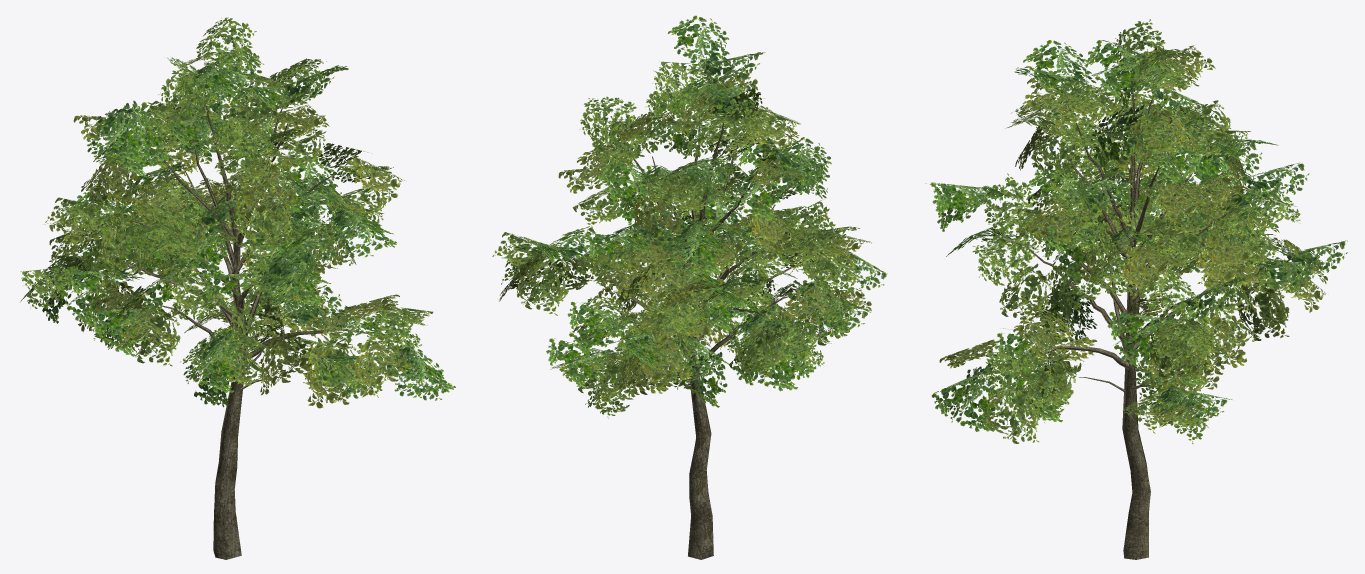
The model's file is tree_01b.dae.
The picture shows the model from 3 angles, left to right: view 1: azimuth 30°, elevation 25°; view 2: azimuth 150°, elevation 25°; view 3: azimuth 270°, elevation 25°; orthographic projection. The views are drawn at different scales.
Parts seen in each view (by area): view 1: polySurface1042, polySurface457; view 2: polySurface1042, polySurface457; view 3: polySurface1042, polySurface457.
Part boxes in pixels (<box>): polySurface1042: <box>20,17,455,408</box>; polySurface457: <box>99,103,367,559</box>; polySurface1042: <box>492,15,887,418</box>; polySurface457: <box>572,117,802,559</box>; polySurface1042: <box>925,19,1347,444</box>; polySurface457: <box>1018,83,1253,559</box>.
Bounding box in the file's own units: 15.24 × 20.59 × 15.51.
Materials: 2 (2 with a texture image).
